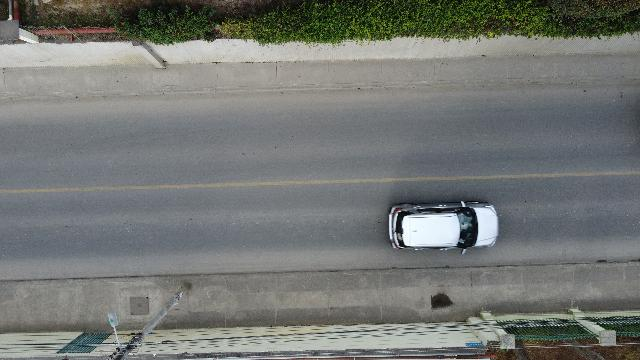Vehiculo: (388, 200, 498, 253)
